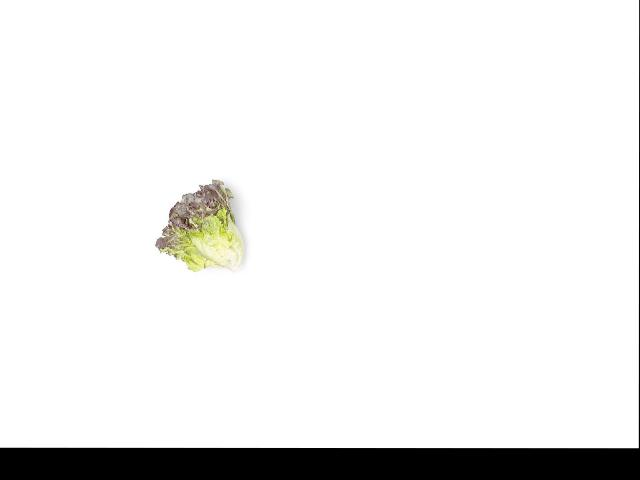lettuce: (157, 173, 244, 275)
